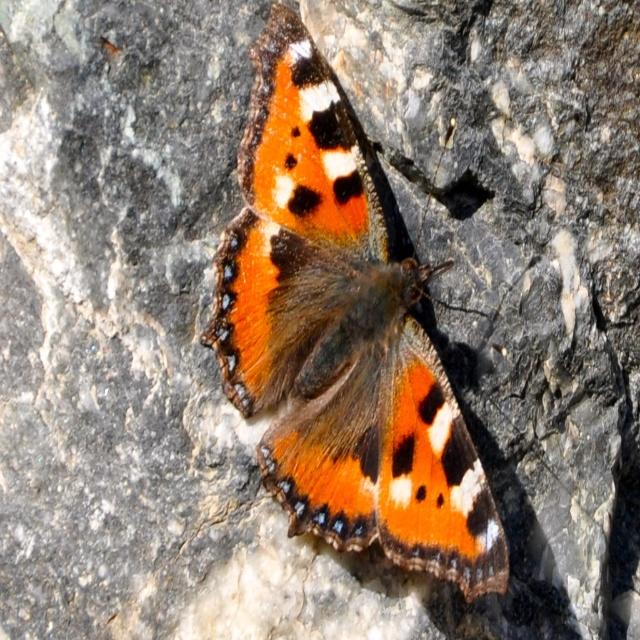Butterfly: (214, 1, 504, 626)
